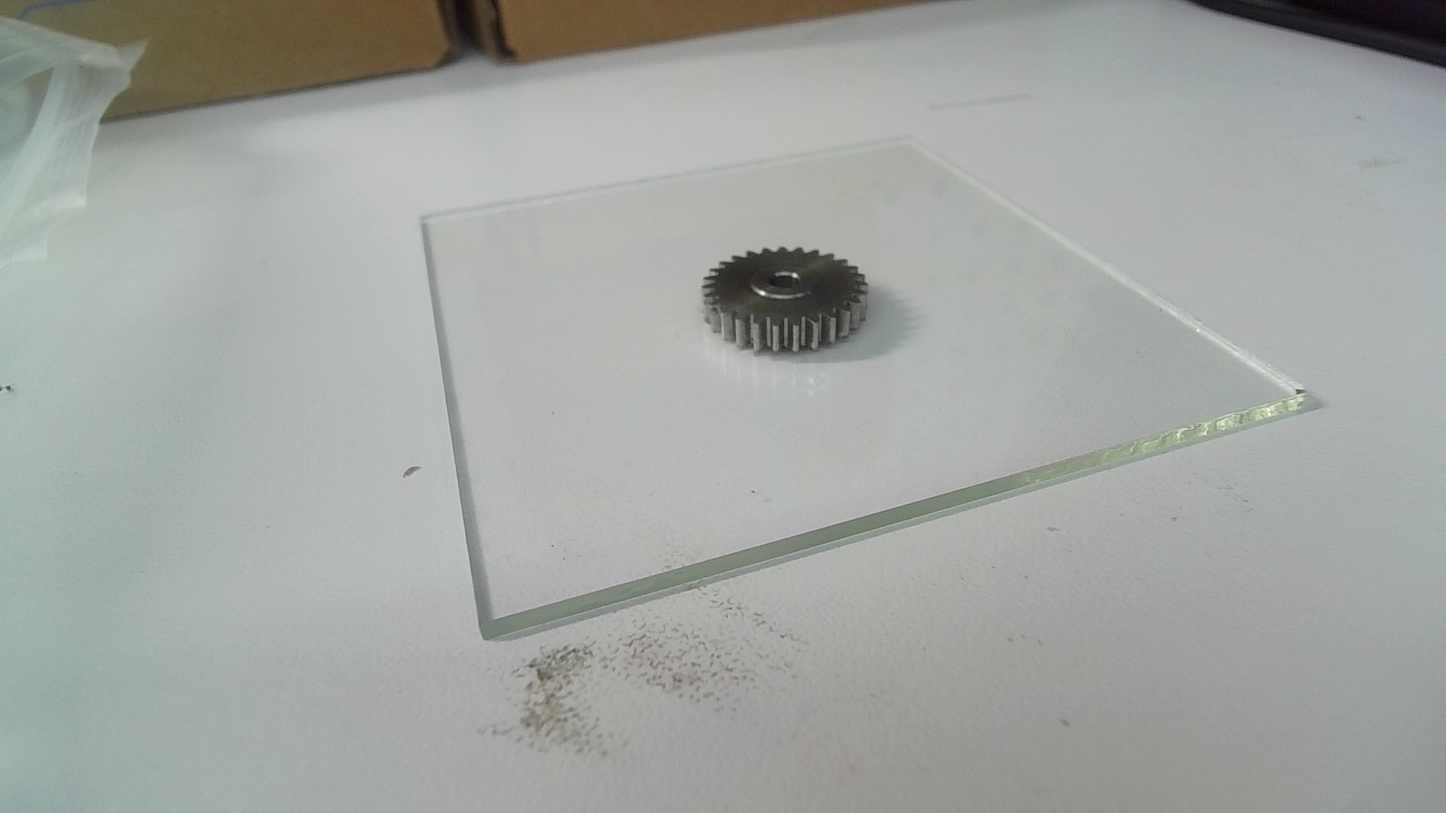gear: (697, 244, 873, 359)
